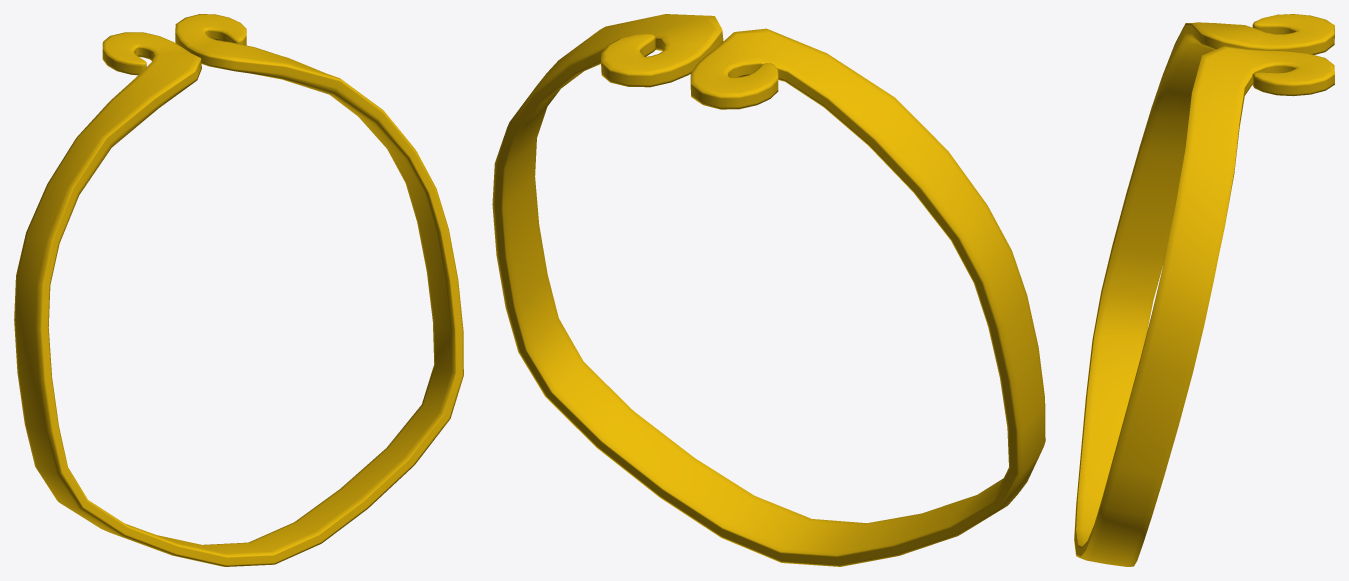
The model's file is teara-wukong-vida.glb.
3 renders of one model, left to right at view 1: azimuth 30°, elevation 25°; view 2: azimuth 150°, elevation 25°; view 3: azimuth 270°, elevation 25°, orthographic. The views are drawn at different scales.
Visible parts, largest first — view 1: Teara_wukong_vida; view 2: Teara_wukong_vida; view 3: Teara_wukong_vida.
Boxes of the visible parts, x1,y1,x2,y2 form: Teara_wukong_vida: (14, 14, 463, 566); Teara_wukong_vida: (492, 14, 1045, 566); Teara_wukong_vida: (1074, 14, 1334, 566).
Size of the model in its own units: 103 by 109 by 50.97.
